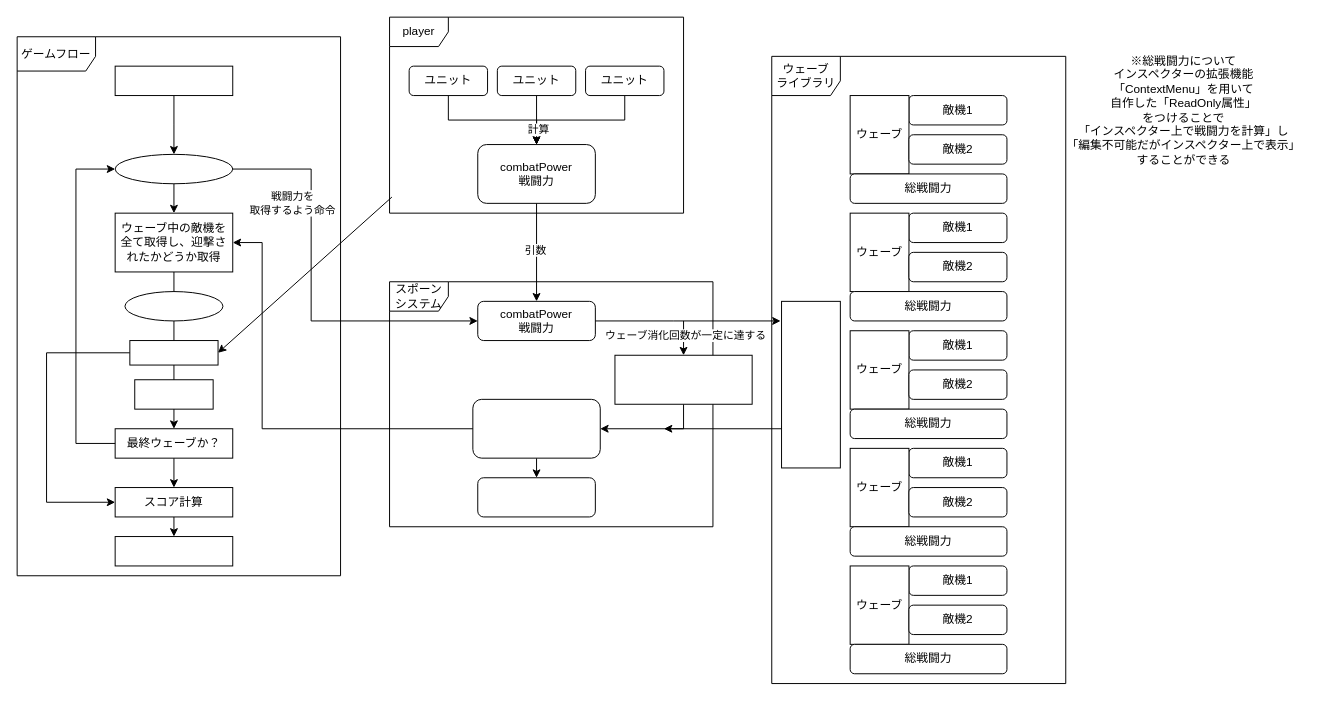
Some shapes in this 1328 by 701 pixel diagram are drawn without their labels. Each missing label, with the centre of its shape:
player撃墜判定: pixel 173 352
ウェーブの敵機を 生成する: pixel 536 497
ウェーブリストから 一つをランダムに選ぶ: pixel 536 428
ウェーブ準備開始: pixel 173 168
ウェーブ開始: pixel 173 306
スタート: pixel 173 80
ボスライブラリへ （仕組みはウェーブライブラリと同じ）: pixel 683 379
引数を基に、適切な戦闘力のウェーブを複数選択、返す: pixel 810 384
敵機全滅: pixel 173 394
終了: pixel 173 551
